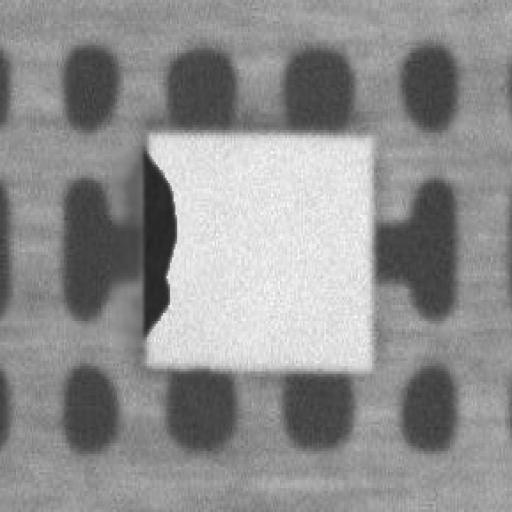DIE_BROKEN: (135, 136, 179, 334)
